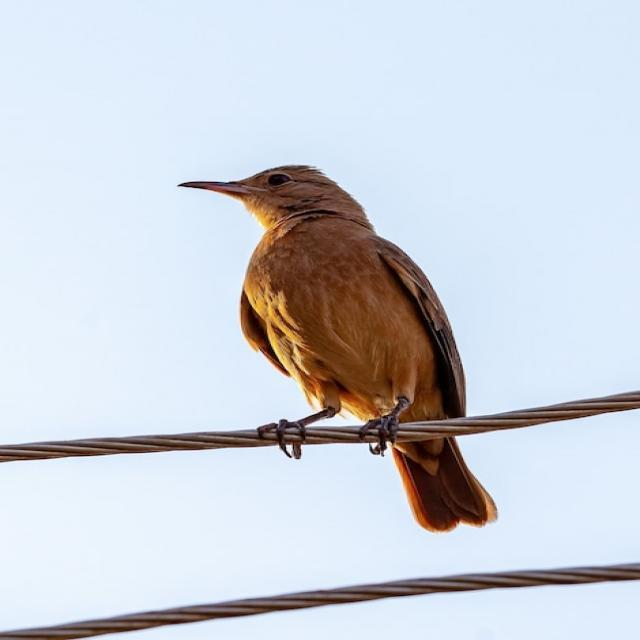bird: (140, 140, 526, 542)
